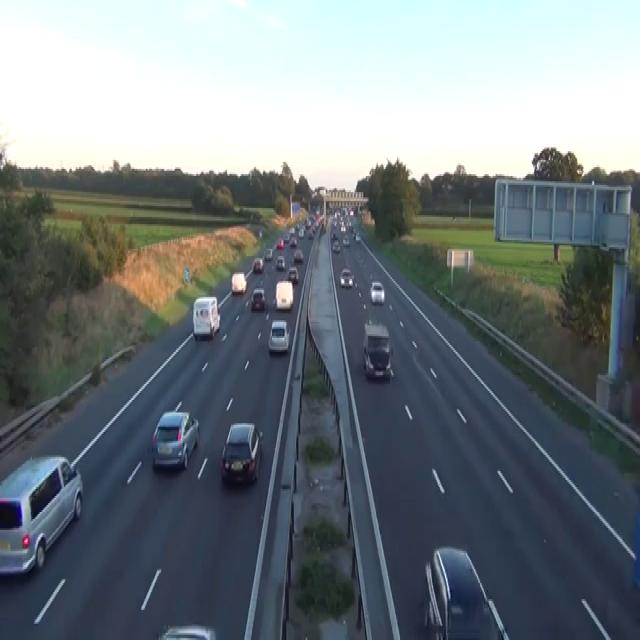Car: (0, 453, 83, 576), (423, 546, 510, 638), (151, 411, 199, 469), (220, 422, 263, 486), (362, 320, 393, 380), (192, 295, 220, 340), (157, 624, 216, 638), (267, 318, 289, 352), (273, 281, 293, 309), (231, 270, 247, 294), (370, 281, 385, 304), (250, 288, 265, 311), (339, 267, 353, 288), (252, 256, 264, 274), (287, 265, 299, 283), (275, 254, 285, 270), (293, 249, 303, 261), (264, 247, 272, 260), (276, 236, 284, 249), (332, 240, 340, 252), (289, 235, 297, 247), (342, 235, 350, 245), (331, 231, 338, 242), (283, 231, 289, 242), (298, 228, 304, 238), (305, 217, 311, 227), (307, 230, 314, 238), (340, 222, 345, 233), (354, 233, 360, 242), (289, 226, 295, 234), (349, 206, 354, 215), (319, 214, 324, 222), (352, 230, 356, 238), (259, 230, 262, 238)
